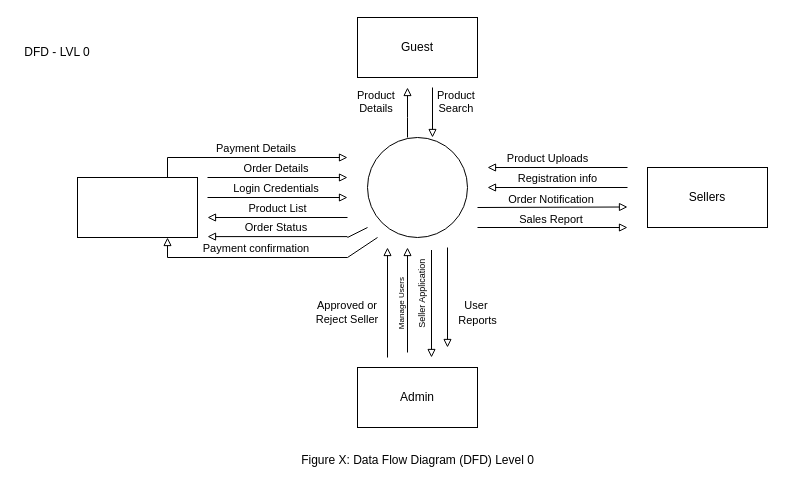
The diagram is 785 pixels wide and 493 high, and some of its shapes have lost their labels. Here are the shapes that lost their labels. From the top down, the box of each, then its label:
(76, 176, 198, 238): Costumer
(366, 136, 468, 238): AgooBiz Connect System
